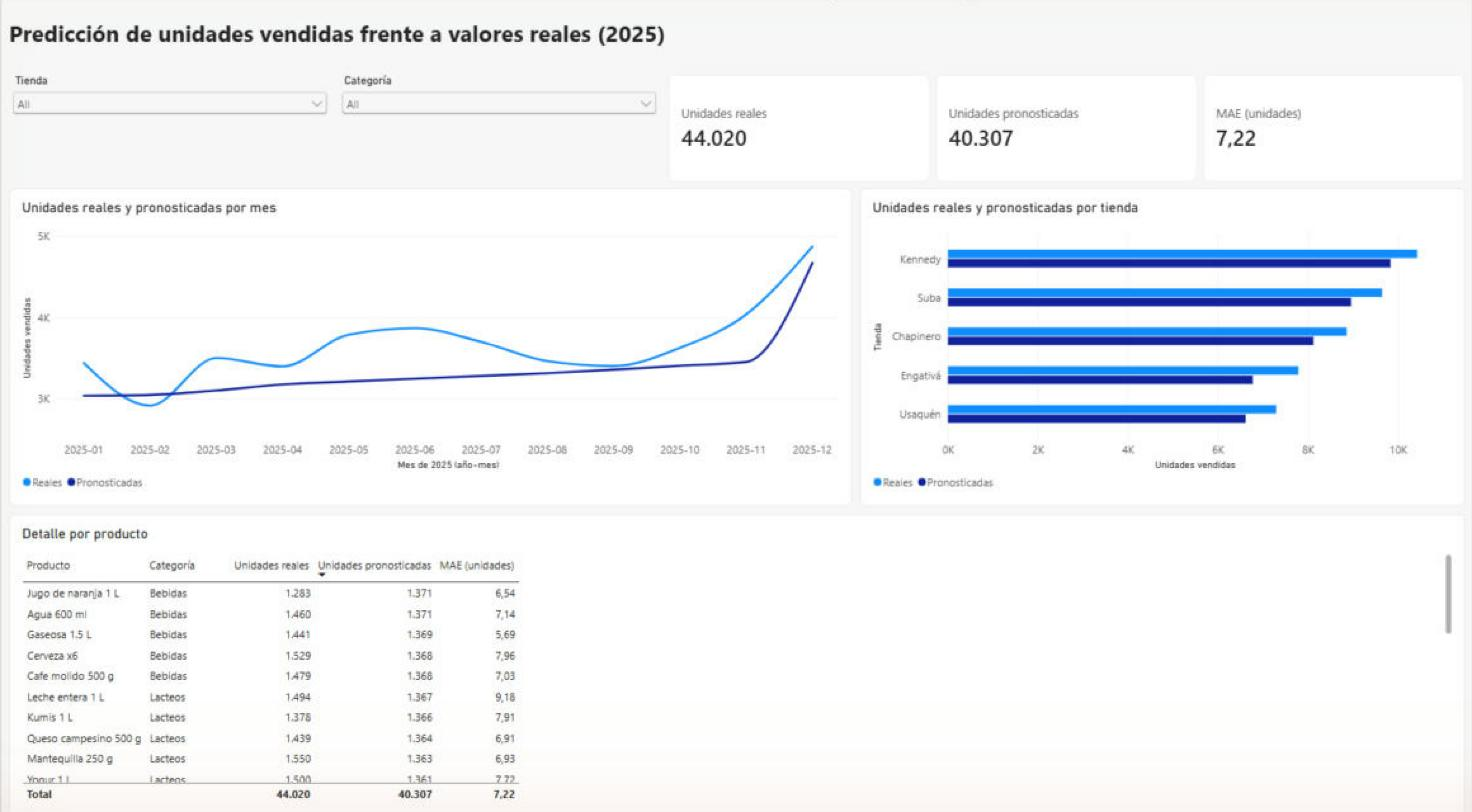

What the dashboard file says about the page in this screenshot:
{"tool":"powerbi","page":{"name":"Predicción de unidades","canvas":[1920,1080],"ordinal":2},"visuals":[{"type":"textbox","box":[10,28,1900,68],"z":0},{"type":"slicer","fields":{"Values":["dim_tienda.nombre_tienda"]},"box":[10,102,420,140],"z":1},{"type":"slicer","fields":{"Values":["dim_producto.categoria"]},"box":[440,102,420,140],"z":2},{"type":"cardVisual","fields":{"Data":["pred_ventas_unidades.Unidades reales","pred_ventas_unidades.Unidades pronosticadas","pred_ventas_unidades.MAE (unidades)"]},"box":[870,102,1040,140],"z":3},{"type":"lineChart","title":"Unidades reales y pronosticadas por mes","fields":{"Category":["dim_fecha.anio_mes"],"Y":["pred_ventas_unidades.Unidades reales","pred_ventas_unidades.Unidades pronosticadas"]},"box":[10,250,1100,415],"z":4},{"type":"clusteredBarChart","title":"Unidades reales y pronosticadas por tienda","fields":{"Category":["dim_tienda.nombre_tienda"],"Y":["pred_ventas_unidades.Unidades reales","pred_ventas_unidades.Unidades pronosticadas"]},"box":[1120,250,790,415],"z":5},{"type":"tableEx","title":"Detalle por producto","fields":{"Values":["dim_producto.nombre_producto","dim_producto.categoria","pred_ventas_unidades.Unidades reales","pred_ventas_unidades.Unidades pronosticadas","pred_ventas_unidades.MAE (unidades)"]},"box":[10,675,1900,395],"z":6}]}

Visuals, with their boxes in screenshot pixels (x1, y1, x2, y2), scaled from the page's 1920x1080 canvas onto the 1472x812 screenshot:
textbox: 8/21/1464/72
slicer - dim_tienda.nombre_tienda: 8/77/330/182
slicer - dim_producto.categoria: 337/77/659/182
cardVisual - pred_ventas_unidades.Unidades reales x pred_ventas_unidades.Unidades pronosticadas: 667/77/1464/182
"Unidades reales y pronosticadas por mes" lineChart: 8/188/851/500
"Unidades reales y pronosticadas por tienda" clusteredBarChart: 859/188/1464/500
"Detalle por producto" tableEx: 8/508/1464/804
